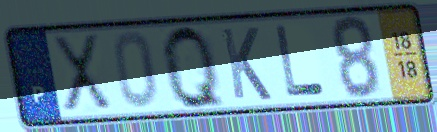0: (111, 28, 161, 113)
8: (330, 12, 384, 103)
K: (218, 25, 274, 103)
L: (273, 23, 328, 99)
Q: (159, 22, 229, 113)
X: (49, 31, 116, 114)
